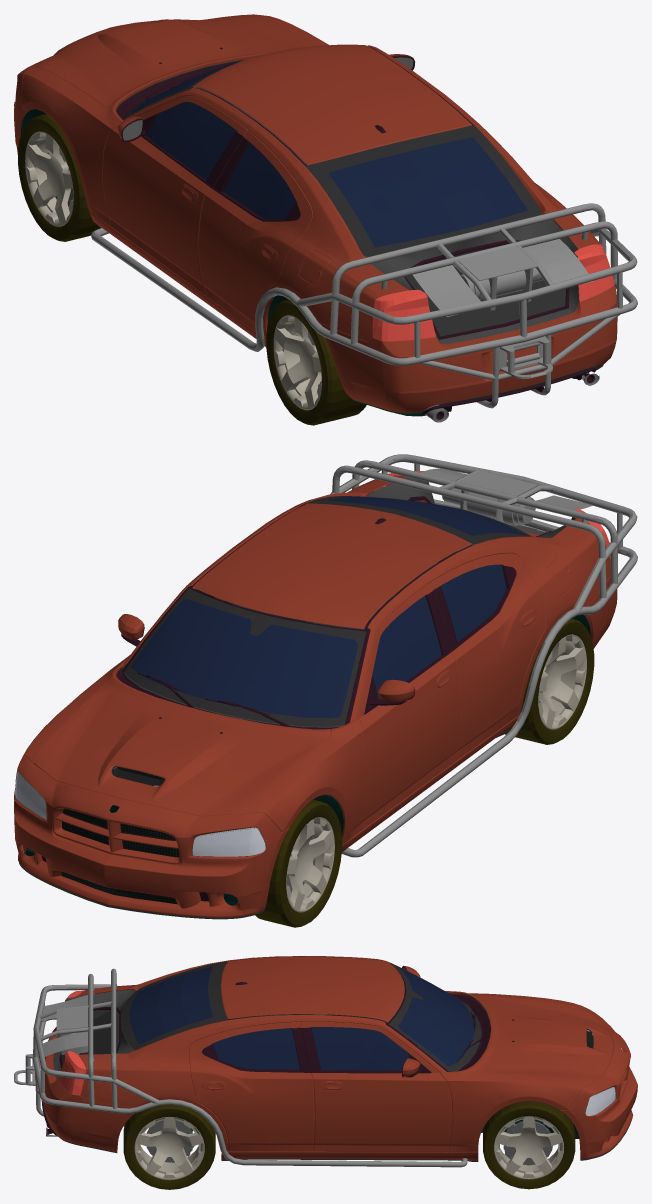
The model's file is dodge.glb.
3 views of the same model, one above another, from view 1: azimuth 30°, elevation 25°; view 2: azimuth 150°, elevation 25°; view 3: azimuth 270°, elevation 25° (orthographic). The views are drawn at different scales.
Parts seen in each view (by area): view 1: Object_18, Object_8, Object_28, Object_22, Object_12, Object_16, Object_6, Plane, Object_14, Object_20; view 2: Object_18, Object_28, Object_8, Object_22, Object_12, Object_16, Object_24, Object_14, Object_6; view 3: Object_18, Object_28, Object_22, Object_8, Object_12, Object_16, Object_6, Object_20, Plane, Object_14.
Part boxes in pixels (x1,y1,x2,y2): Object_18: (14,14,617,413); Object_8: (91,203,637,408); Object_28: (15,62,614,341); Object_22: (25,61,541,410); Object_12: (18,114,366,425); Object_16: (116,46,595,419); Object_6: (125,87,579,344); Plane: (405,245,566,336); Object_14: (20,60,603,416); Object_20: (47,57,599,422); Object_18: (14,475,617,918); Object_28: (15,471,610,856); Object_8: (330,454,637,857); Object_22: (111,496,586,912); Object_12: (24,618,594,927); Object_16: (42,496,552,901); Object_24: (61,767,179,904); Object_14: (15,614,590,919); Object_6: (124,477,575,727); Object_18: (42,956,637,1161); Object_28: (58,967,615,1115); Object_22: (121,961,593,1180); Object_8: (14,968,467,1167); Object_12: (123,1101,575,1189); Object_16: (41,966,514,1135); Object_6: (53,968,481,1079); Object_20: (46,967,552,1165); Plane: (62,1010,119,1063); Object_14: (53,993,632,1161).
Size of the model in its own units: 8.46 by 6.27 by 21.7.
Materials: 15 (1 with a texture image).
